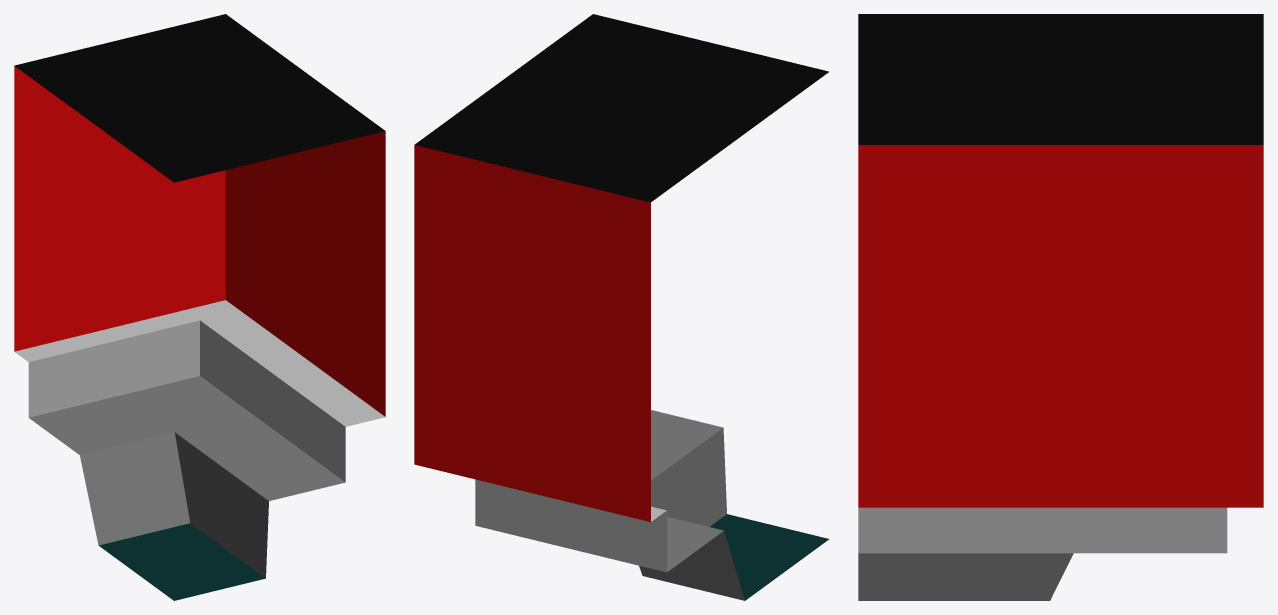
File: dead_end_a.fbx
The picture shows the model from 3 angles, left to right: view 1: azimuth 30°, elevation 25°; view 2: azimuth 150°, elevation 25°; view 3: azimuth 270°, elevation 25°; orthographic projection. The views are drawn at different scales.
Visible parts, largest first — view 1: pieza_dead_end_a; view 2: pieza_dead_end_a; view 3: pieza_dead_end_a.
Part boxes in pixels (box(x1,y1,x2,y2)): pieza_dead_end_a: box(14, 14, 385, 600); pieza_dead_end_a: box(414, 14, 829, 600); pieza_dead_end_a: box(858, 14, 1263, 600).
Bounding box in the file's own units: 20 × 37.77 × 26.19.
